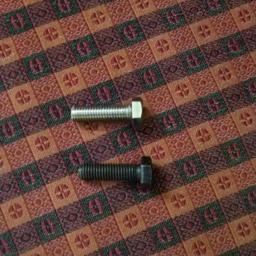screwtype2black: (77, 154, 156, 192)
screwtype2silver: (67, 95, 144, 133)
